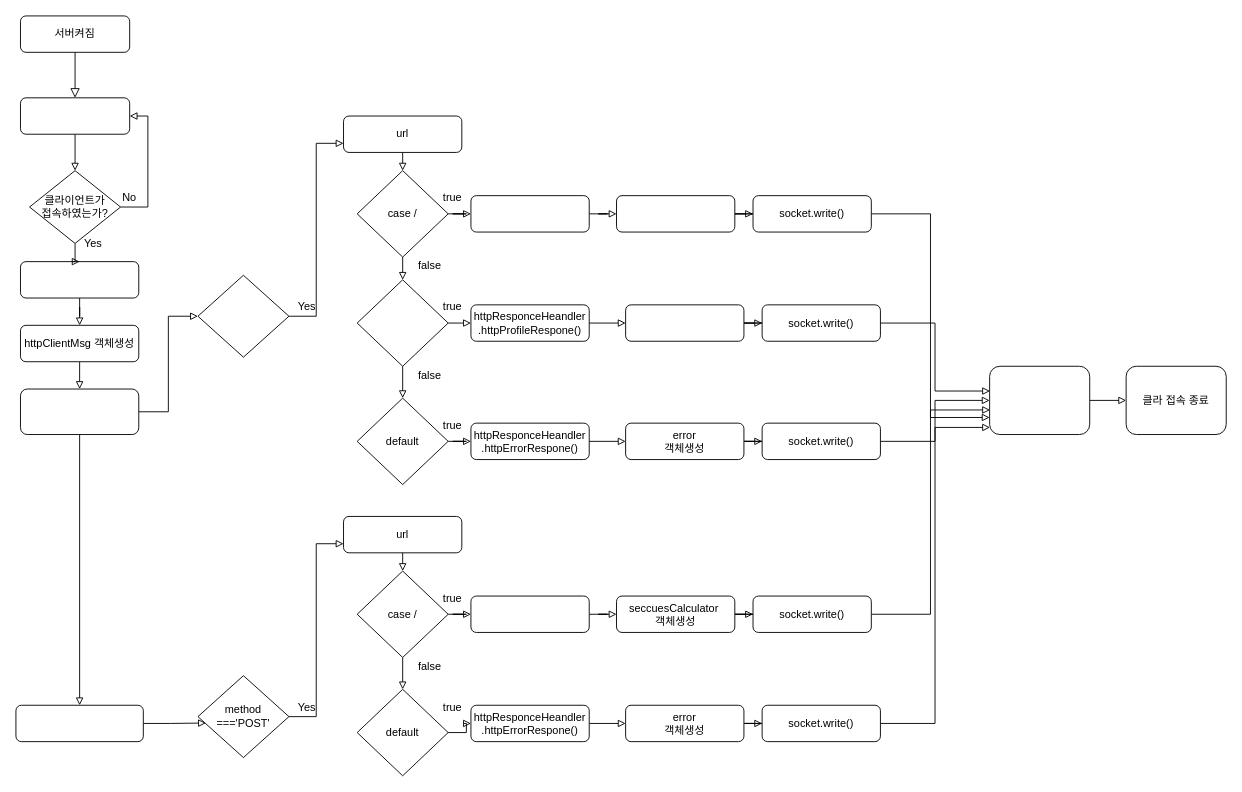
Some shapes in this 1242 by 792 pixel diagram are drawn without their labels. Here are the shapes that lost their labels. From the top down, the centre of each, then its label:
the point at 75,115: 클라이언트 접속 대기
the point at 529,213: httpResponceHeandler .httpMainRespone()
the point at 675,213: seccuesMain 객체생성
the point at 79,279: requestData 객체생성
the point at 243,315: method ==='GET'
the point at 402,322: case /Profile
the point at 684,322: seccuesProfile 객체생성
the point at 79,411: httpClientMsg.getRequ estBuild() 실행
the point at 1039,400: 클라 요청에 대한 응답전송
the point at 529,613: httpResponceHeandler .httpCalculatorRespone()
the point at 79,723: postRequestBuild() 실행
